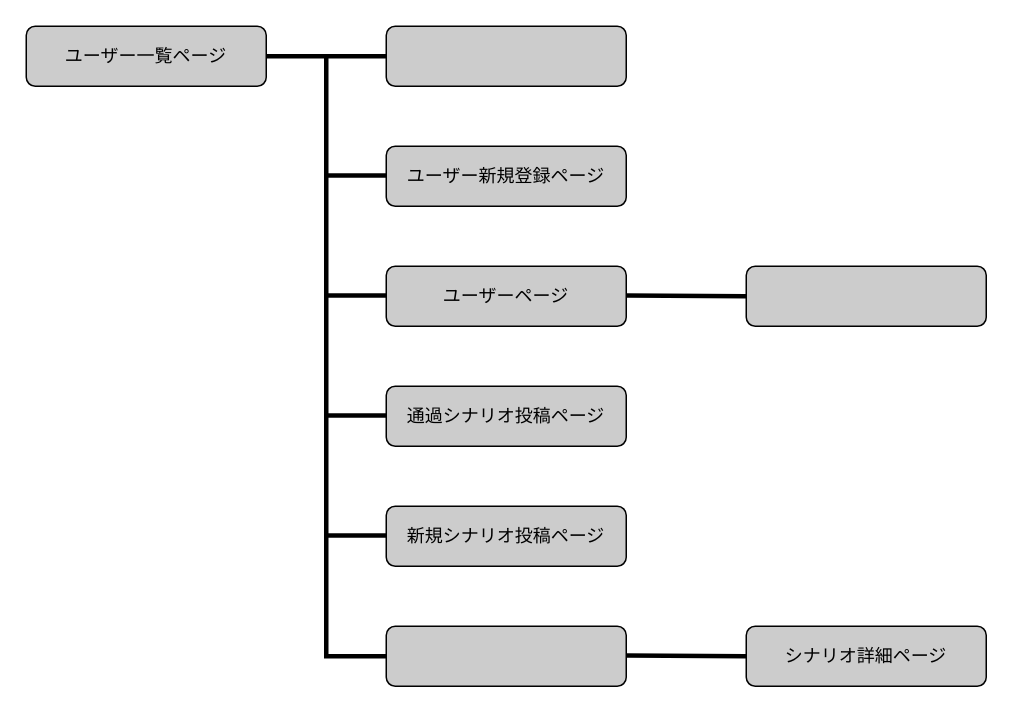
Image size: 1013x713. Some labels were removed from this diagram. The shapes that lost their labels are listed below. From the top down, each one's box as (x1, y1, x2, y2) in pixels, then its label:
(385, 25, 626, 86): ユーザーログインページ
(745, 265, 986, 326): 通過シナリオ一覧
(385, 625, 626, 686): シナリオ一覧ページ
